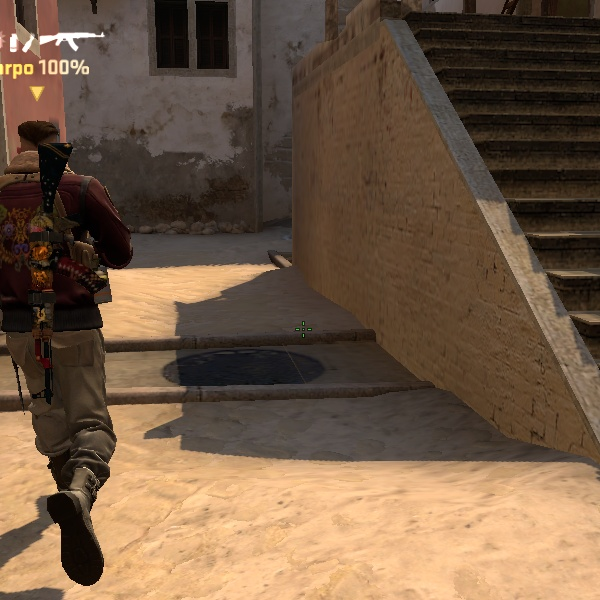t_body: (1, 109, 140, 576)
t_head: (1, 109, 90, 191)
